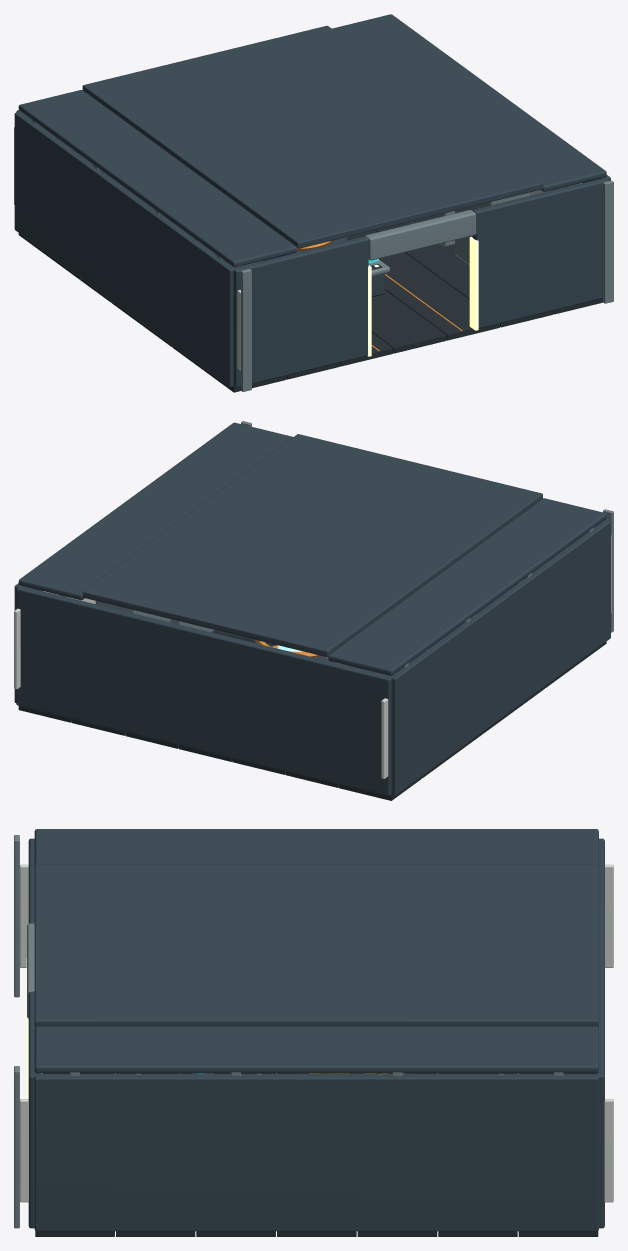
The model's file is engineering_room.glb.
3 views of the same model, one above another, from view 1: azimuth 30°, elevation 25°; view 2: azimuth 150°, elevation 25°; view 3: azimuth 270°, elevation 25° (orthographic). The views are drawn at different scales.
Parts seen in each view (by area): view 1: engineering_room; view 2: engineering_room; view 3: engineering_room.
Part boxes in pixels (x1,y1,x2,y2): engineering_room: (14, 14, 613, 392); engineering_room: (14, 421, 613, 800); engineering_room: (14, 829, 613, 1236).
Bounding box in the file's own units: 14.3 × 4.82 × 14.89.
